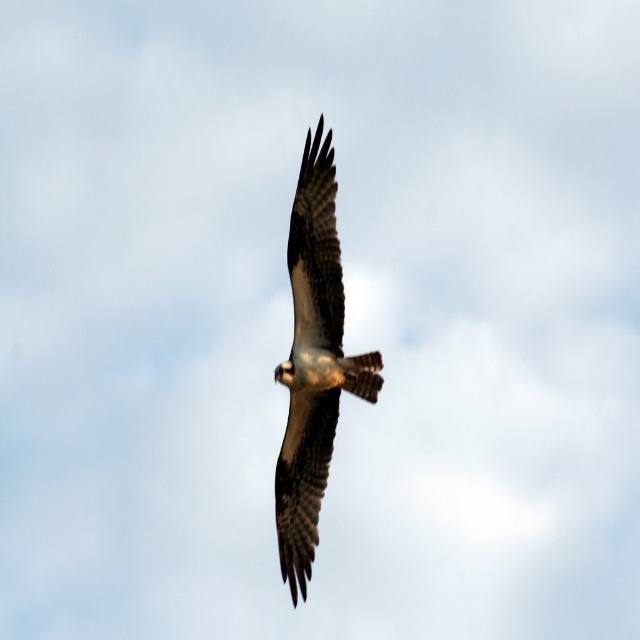Eagle: (273, 107, 386, 617)
